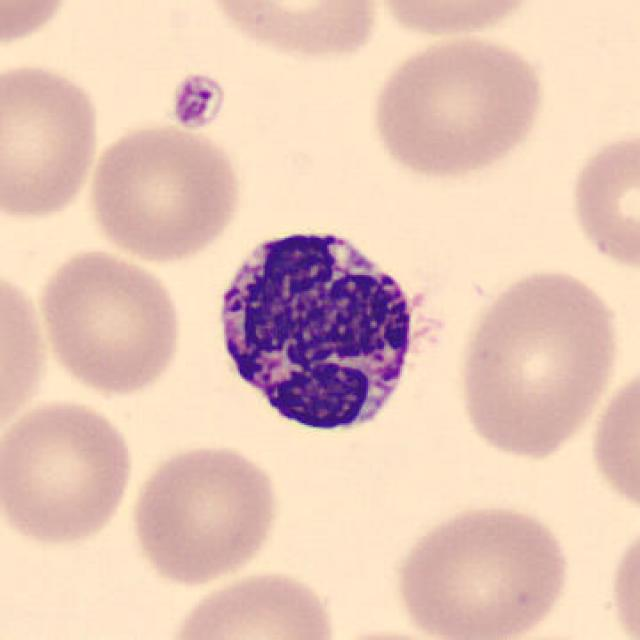Basophil: (204, 210, 441, 448)
Platelets: (166, 69, 230, 134)
RBC: (450, 261, 624, 464), (364, 28, 550, 184), (390, 497, 574, 640), (84, 118, 247, 266), (124, 439, 284, 589), (32, 245, 187, 399), (0, 395, 139, 550), (0, 58, 105, 224), (160, 566, 341, 640), (563, 123, 640, 276), (196, 0, 386, 62), (0, 261, 52, 448), (586, 356, 640, 523), (370, 0, 544, 41), (606, 513, 640, 640), (0, 0, 76, 53), (309, 624, 471, 640)
